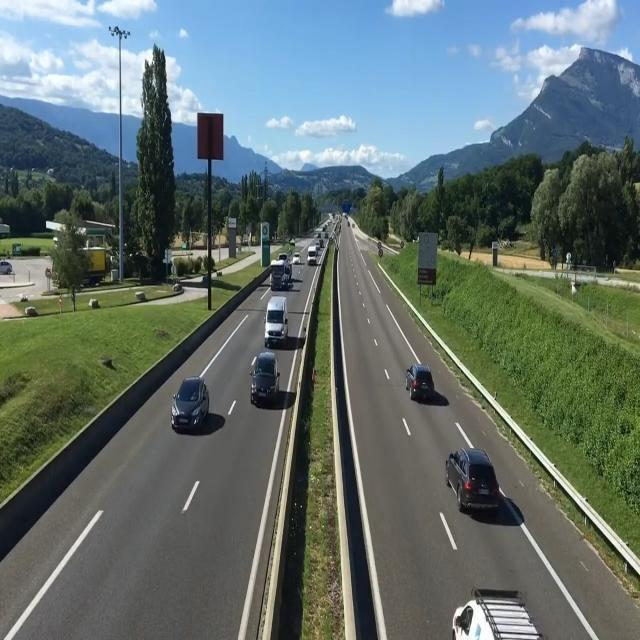Car: (442, 426, 508, 520), (157, 355, 219, 439), (237, 342, 291, 416), (400, 332, 444, 415), (291, 250, 301, 266)
Truck: (444, 582, 553, 640), (269, 252, 295, 290)
Van: (261, 290, 291, 346), (306, 243, 318, 267)
